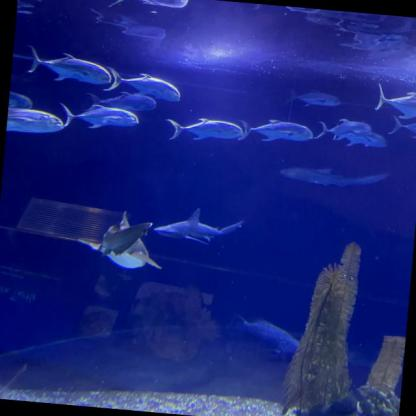fish: (25, 44, 114, 87), (226, 313, 302, 357), (103, 65, 181, 102), (164, 116, 244, 146), (59, 103, 139, 133), (238, 115, 314, 146), (6, 108, 64, 143), (312, 116, 372, 144), (376, 82, 415, 121), (86, 91, 158, 112), (333, 128, 387, 150), (286, 88, 340, 110), (8, 85, 33, 113), (389, 115, 415, 138)
shark: (75, 206, 164, 272), (151, 203, 244, 247), (281, 164, 389, 192)
